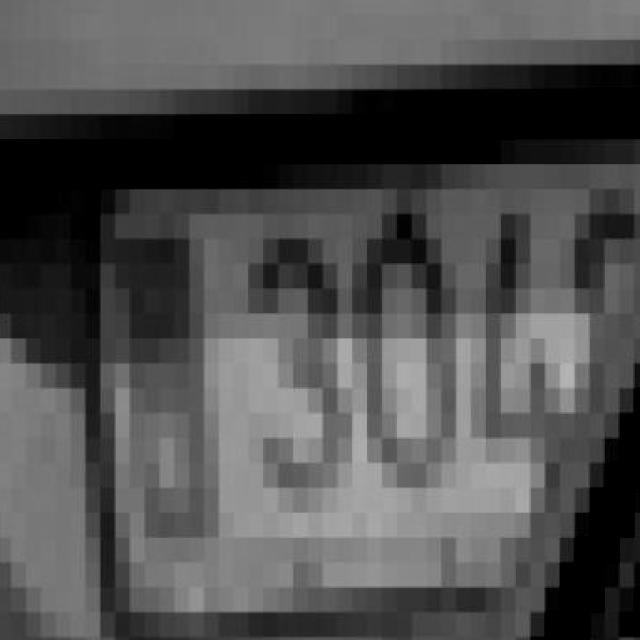licenseplate: (55, 107, 637, 640)
